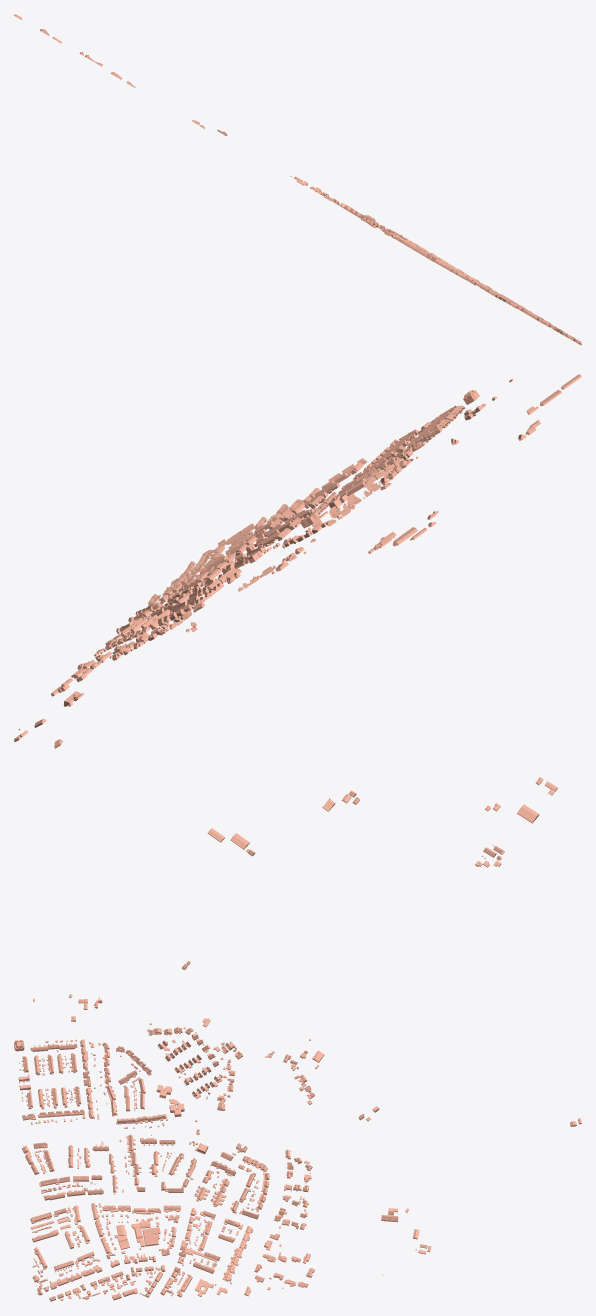
3 views of the same model, one above another, from view 1: azimuth 30°, elevation 25°; view 2: azimuth 150°, elevation 25°; view 3: azimuth 270°, elevation 25° (orthographic). The views are drawn at different scales.
Bounding box in the file's own units: 1050 × 745 × 1206.
